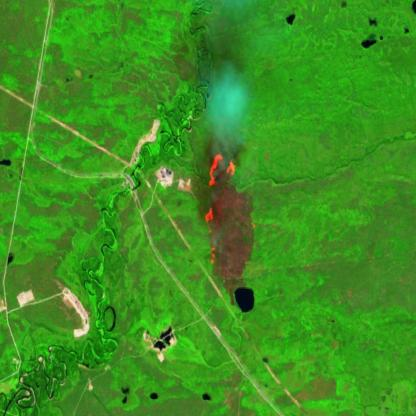fire: (202, 151, 250, 268)
